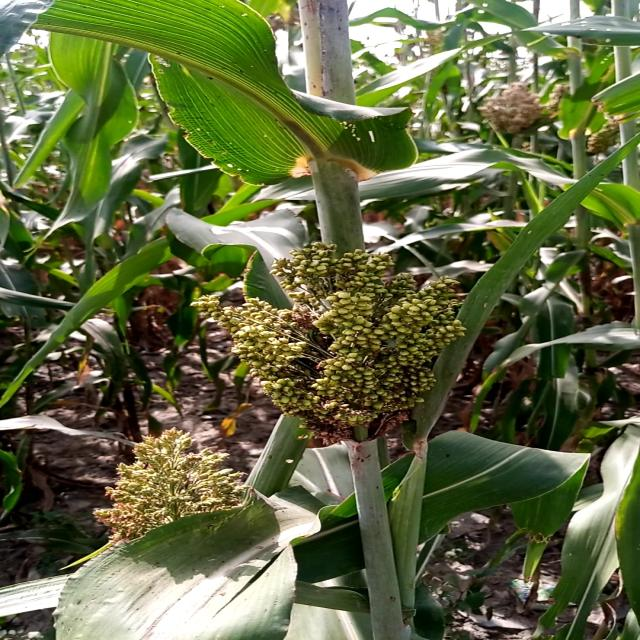UnripeSorghum: (196, 225, 519, 438), (92, 420, 267, 549)
